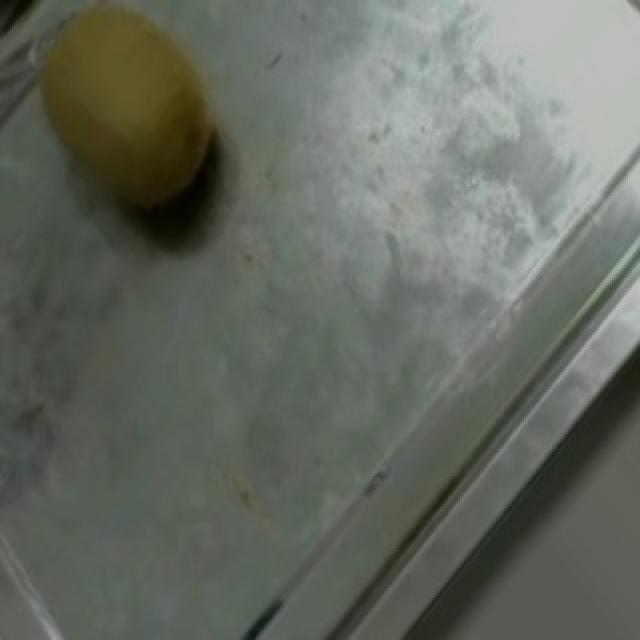Fruit: (0, 0, 260, 251)
